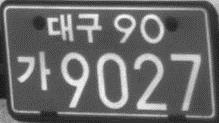0: (94, 51, 129, 110), (138, 12, 165, 46)
2: (130, 51, 169, 112)
7: (168, 51, 202, 112)
9: (58, 49, 90, 110), (108, 11, 140, 45)
가: (15, 49, 52, 92)
대구_O: (45, 10, 105, 44)
